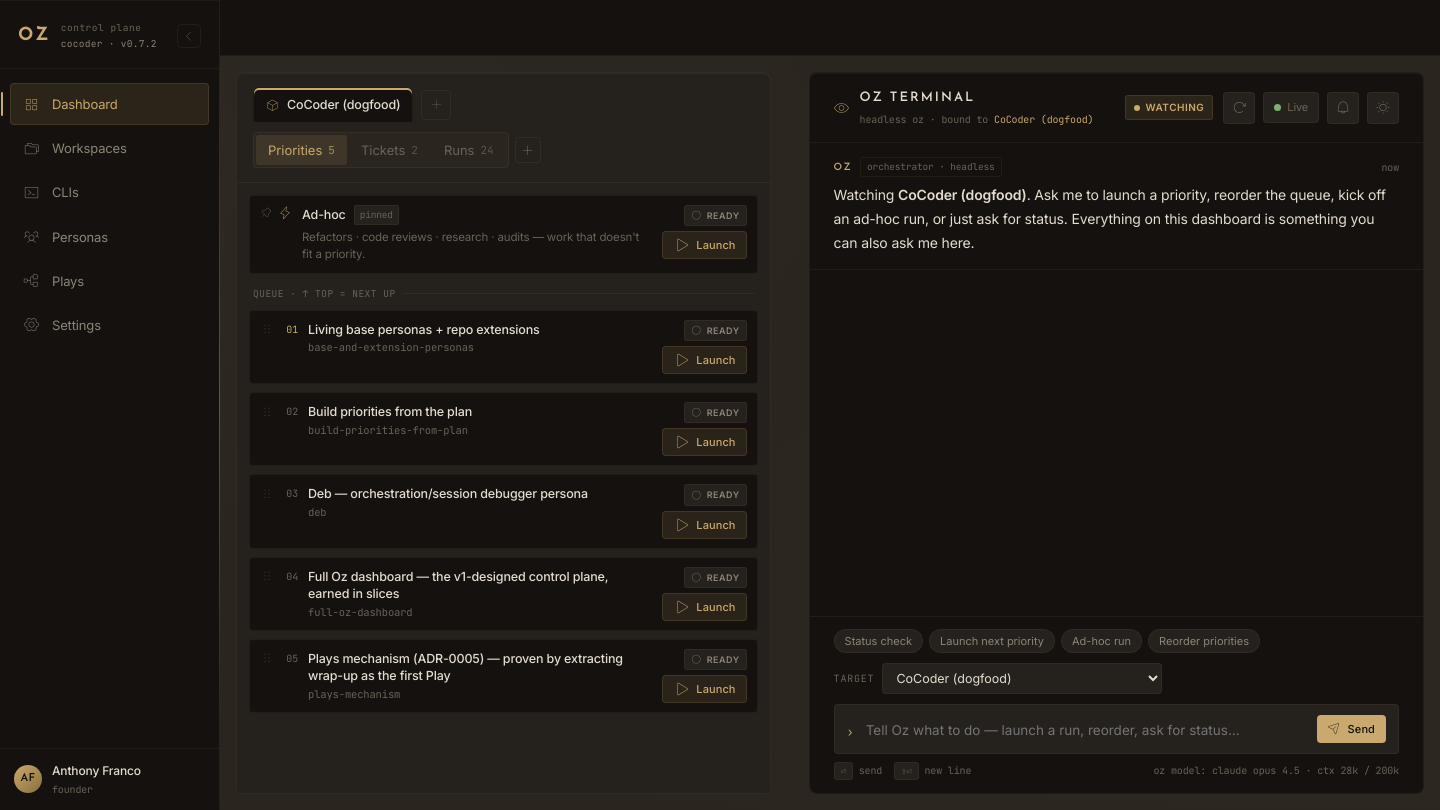
Test: Oz renderer — live daemon path › keeps launch progress open with the event reason when a spawn fails
Expected: the text "Live" is shown, [1287, 98, 1308, 117]
Click the button "Launch" in the row of "base-and-extension-personas" at (704, 360), box [662, 346, 747, 374]
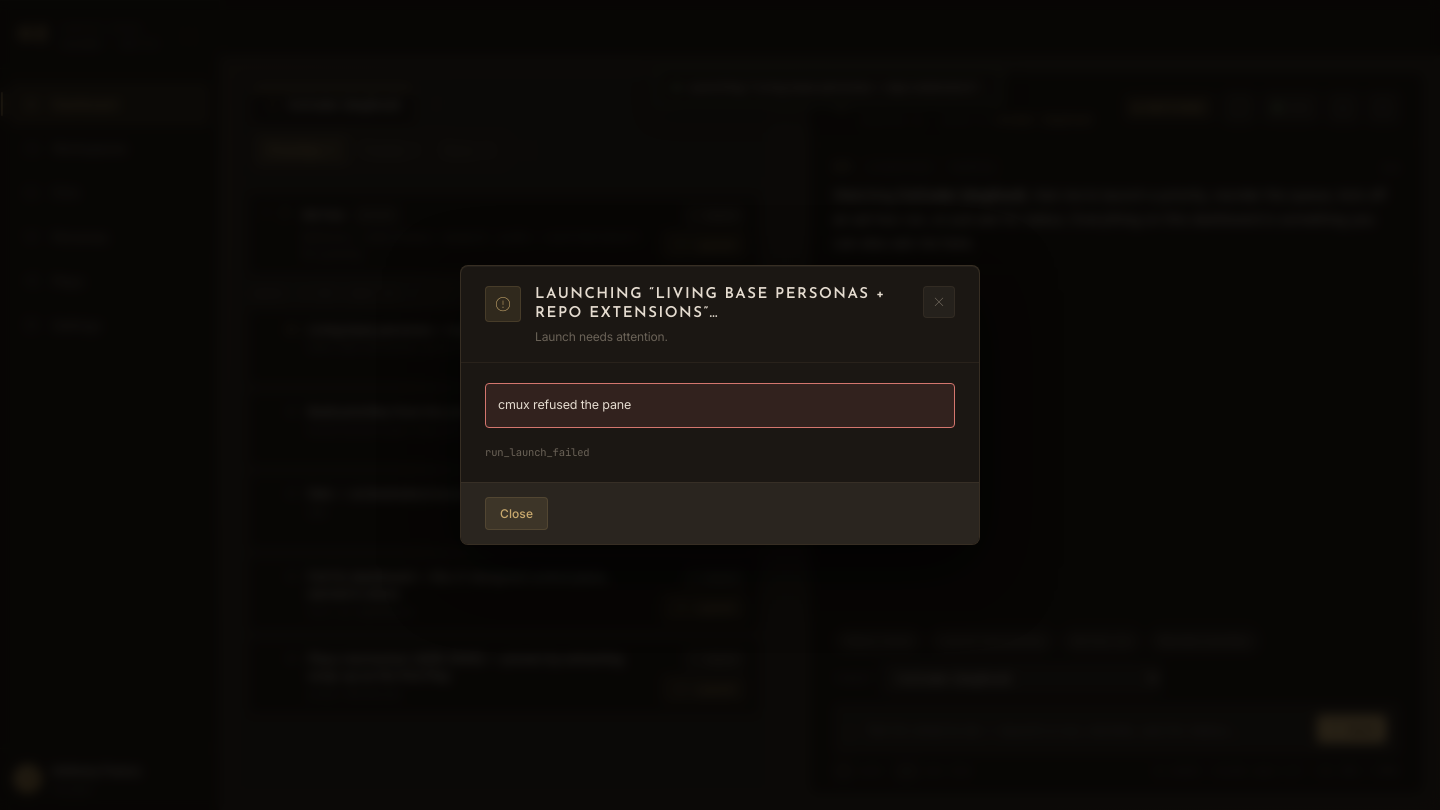
Expected: the text "cmux refused the pane" is shown, [485, 383, 955, 428]
Expected: the button "Close" is shown, [485, 496, 548, 530]
